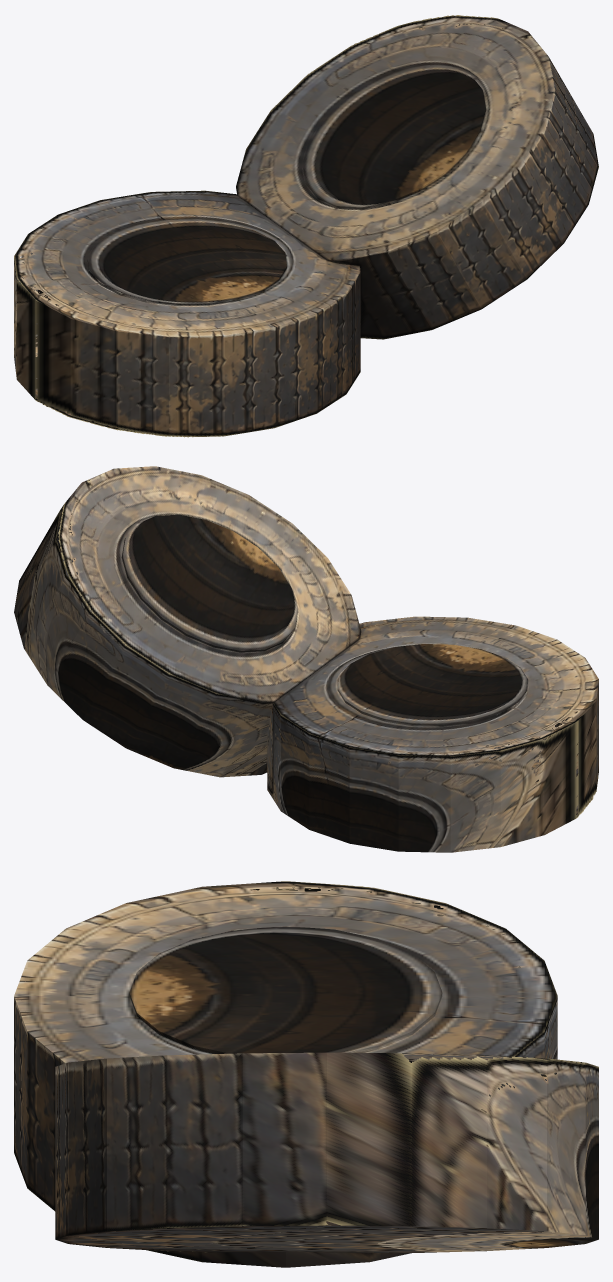
The model's file is tires.glb.
3 renders of one model, top to bottom at view 1: azimuth 30°, elevation 25°; view 2: azimuth 150°, elevation 25°; view 3: azimuth 270°, elevation 25°, orthographic. The views are drawn at different scales.
Visible parts, largest first — view 1: tires_game; view 2: tires_game; view 3: tires_game.
Part boxes in pixels (x1,y1,x2,y2): tires_game: [14, 15, 598, 437]; tires_game: [14, 466, 598, 852]; tires_game: [14, 881, 598, 1267].
Size of the model in its own units: 1.2 by 0.4953 by 0.71.
1 material, 1 textured.
